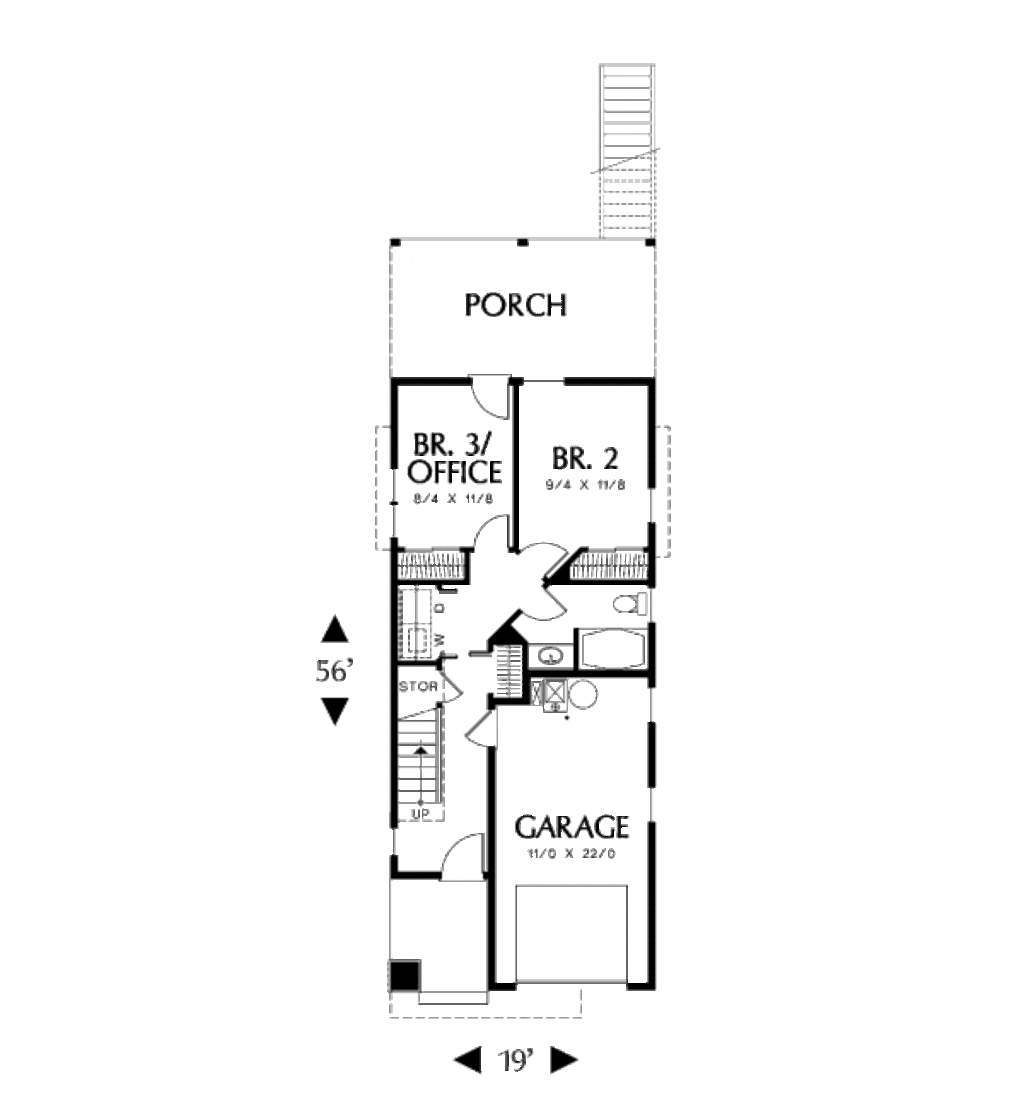door: (464, 367, 513, 429), (464, 507, 519, 559), (438, 829, 488, 877), (518, 588, 568, 624), (525, 526, 564, 572), (466, 702, 497, 750), (431, 665, 464, 709)
large_sink: (594, 579, 659, 624)
small_sink: (525, 638, 580, 671)
stairs: (588, 53, 664, 252), (395, 659, 445, 819)
tub: (575, 627, 654, 676)
